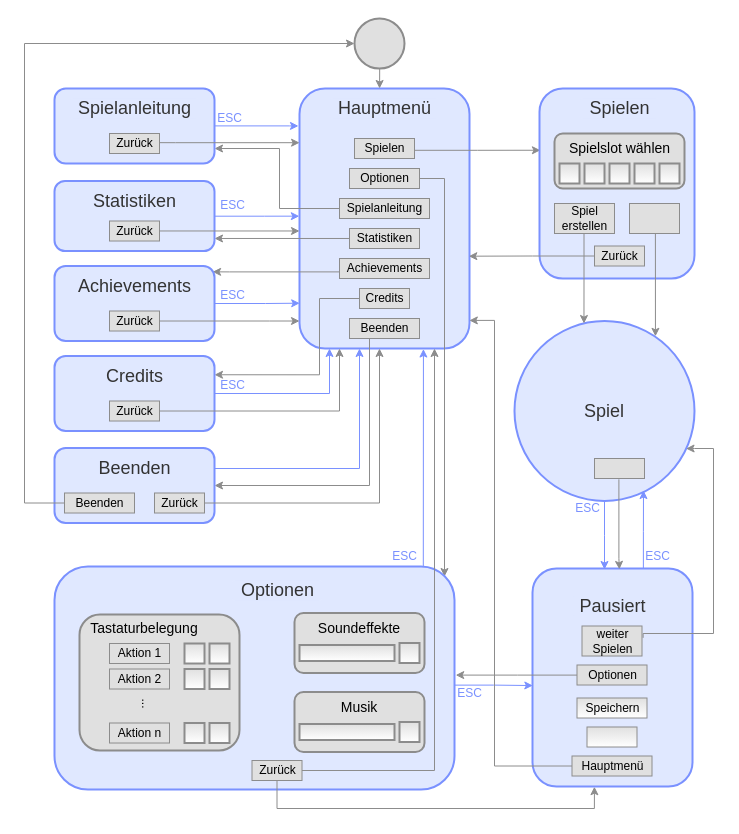
The diagram is 739 pixels wide and 834 high, and some of its shapes have lost their labels. Each missing label, with the centre of its shape:
Laden: the point at 611,736
Pause: the point at 619,468
Spiel laden: the point at 654,218
Start: the point at 379,43
